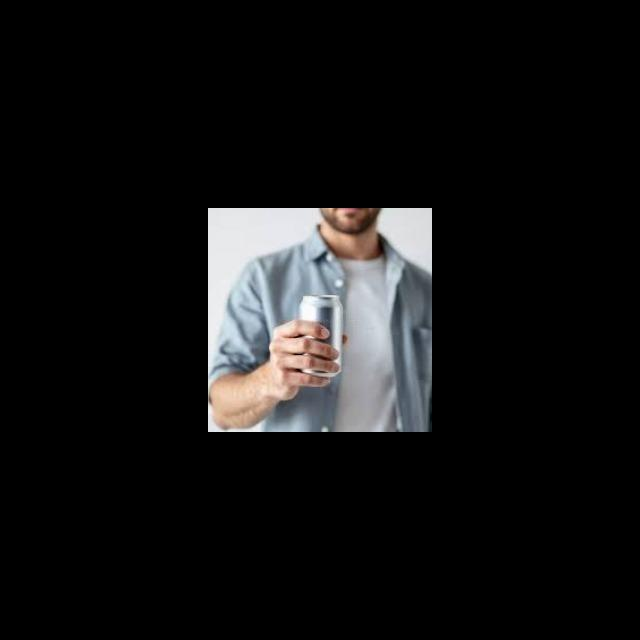metal: (287, 278, 351, 404)
